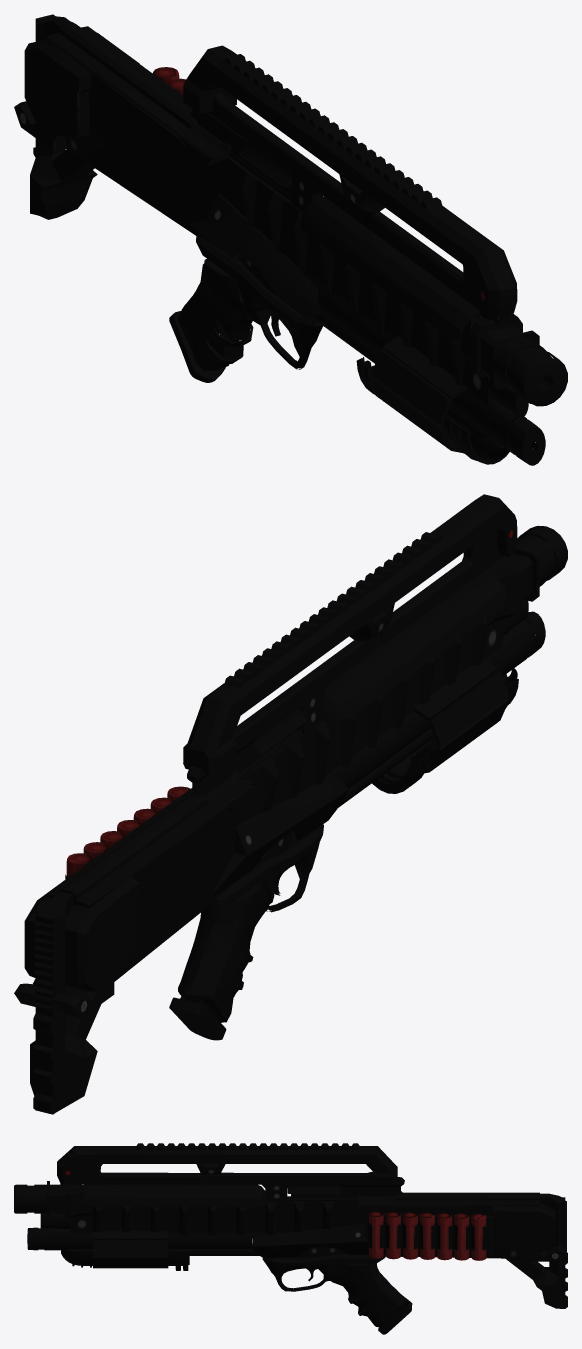
The model's file is Gun_3.fbx.
3 renders of one model, top to bottom at view 1: azimuth 30°, elevation 25°; view 2: azimuth 150°, elevation 25°; view 3: azimuth 270°, elevation 25°, orthographic. The views are drawn at different scales.
Parts seen in each view (by area): view 1: Gun_3; view 2: Gun_3; view 3: Gun_3.
Part boxes in pixels (box(x1,y1,x2,y2)): Gun_3: box(14, 14, 567, 465); Gun_3: box(14, 494, 567, 1114); Gun_3: box(14, 1143, 567, 1334).
Bounding box in the file's own units: 4.75 × 17.31 × 46.13.
Materials: 1 (1 with a texture image).
